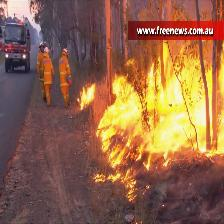fire: (92, 41, 224, 206), (77, 82, 96, 110)
